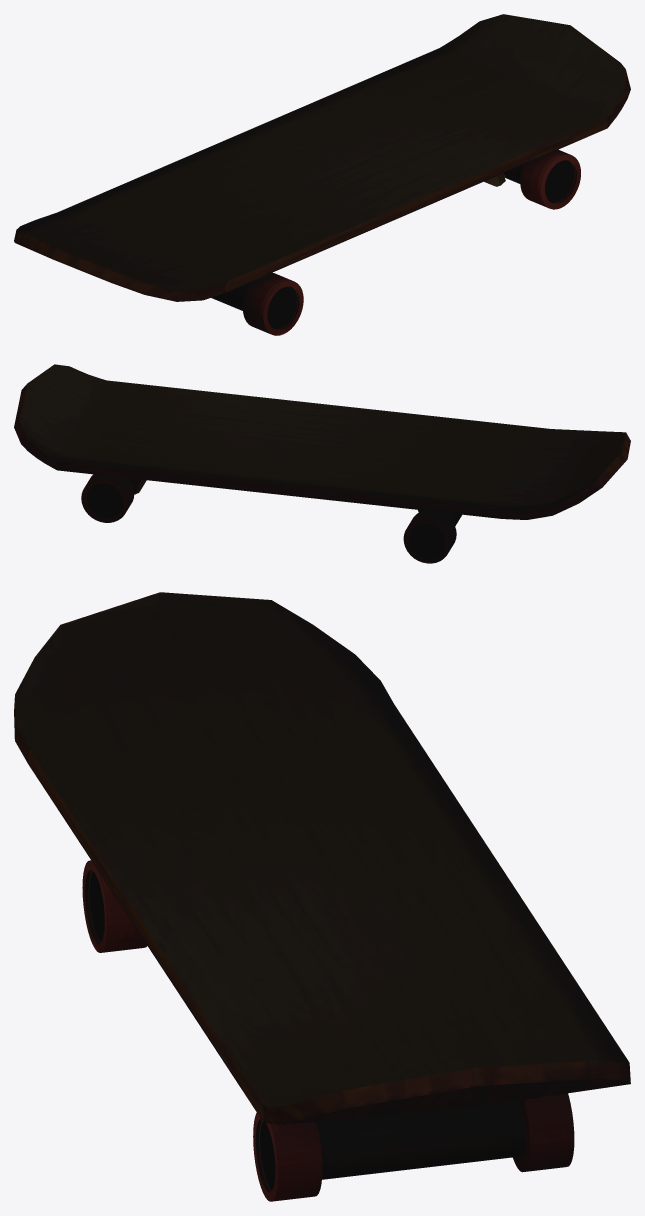
The model's file is G2_DM_skate.gltf.
3 renders of one model, top to bottom at view 1: azimuth 30°, elevation 25°; view 2: azimuth 150°, elevation 25°; view 3: azimuth 270°, elevation 25°, orthographic. The views are drawn at different scales.
Parts seen in each view (by area): view 1: skate; view 2: skate; view 3: skate.
Part boxes in pixels (left/top/right/bottom): skate: left=14, top=14, right=630, bottom=335; skate: left=14, top=364, right=630, bottom=563; skate: left=14, top=592, right=630, bottom=1201.
Size of the model in its own units: 0.6969 by 0.1302 by 0.3638.
1 material, 1 textured.
